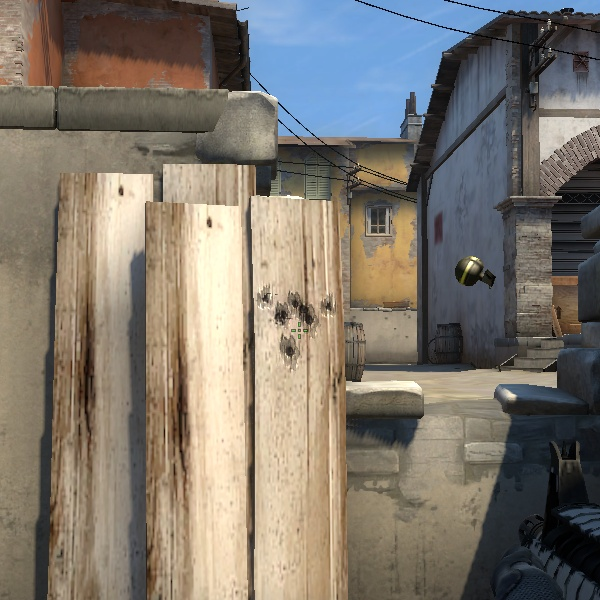ct_body: (452, 252, 497, 289)
